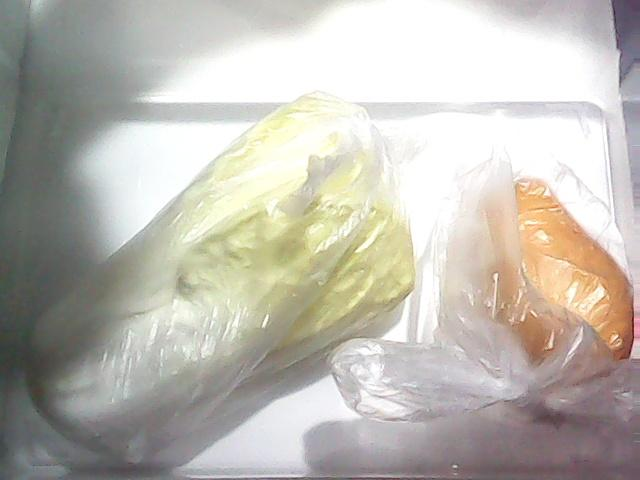mango: (440, 166, 634, 404)
napa cabbage: (22, 97, 418, 455)
